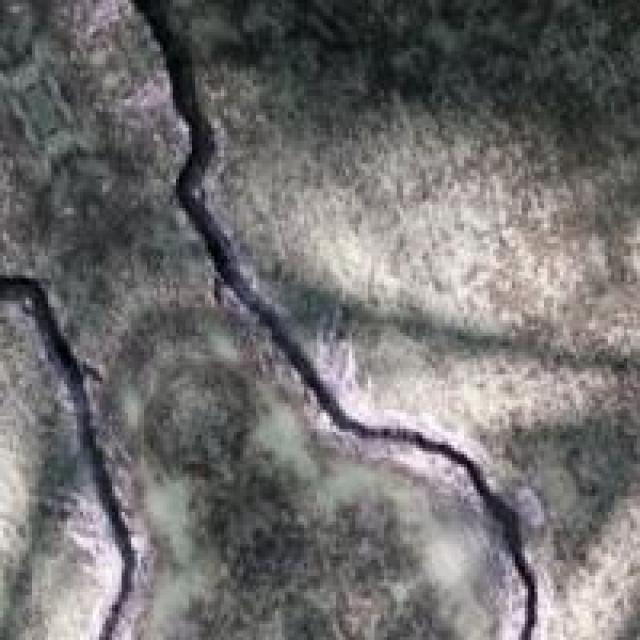crack: (0, 0, 538, 637)
